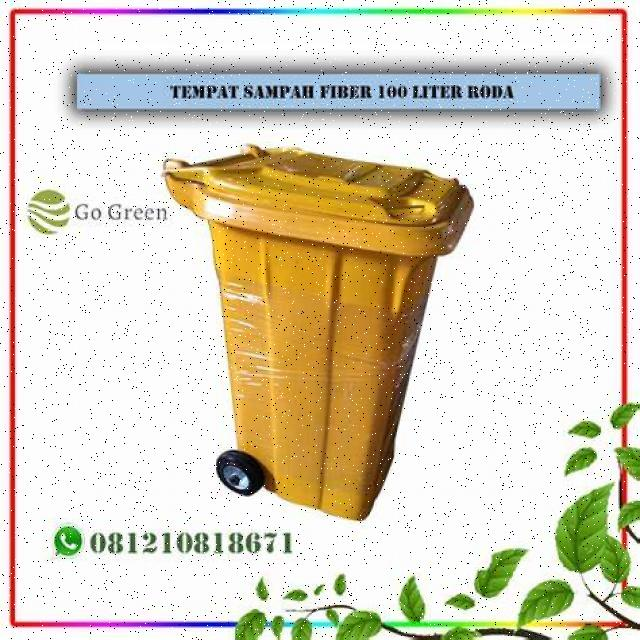garbage container: (164, 128, 473, 520)
